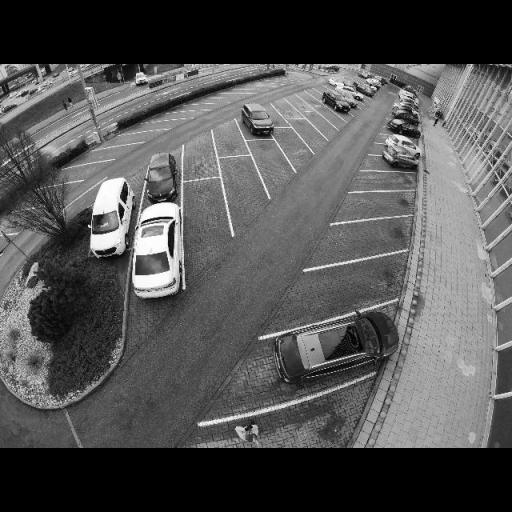busy: (262, 310, 406, 376), (128, 198, 190, 306), (80, 175, 136, 260), (141, 151, 182, 203), (238, 102, 276, 136), (381, 138, 421, 169), (323, 90, 354, 113), (389, 122, 419, 136), (394, 109, 420, 123), (352, 84, 376, 98), (344, 90, 365, 104)
free: (330, 265, 384, 319), (340, 222, 393, 253), (188, 197, 222, 230), (357, 192, 401, 212), (228, 176, 257, 202), (185, 149, 215, 171), (372, 173, 404, 190), (82, 150, 114, 164), (262, 153, 284, 170), (217, 131, 237, 149), (114, 133, 136, 149), (144, 120, 170, 133), (282, 137, 299, 151), (291, 98, 304, 112), (174, 109, 188, 121), (301, 128, 315, 138), (302, 92, 312, 106), (280, 105, 293, 114), (316, 118, 326, 128)
